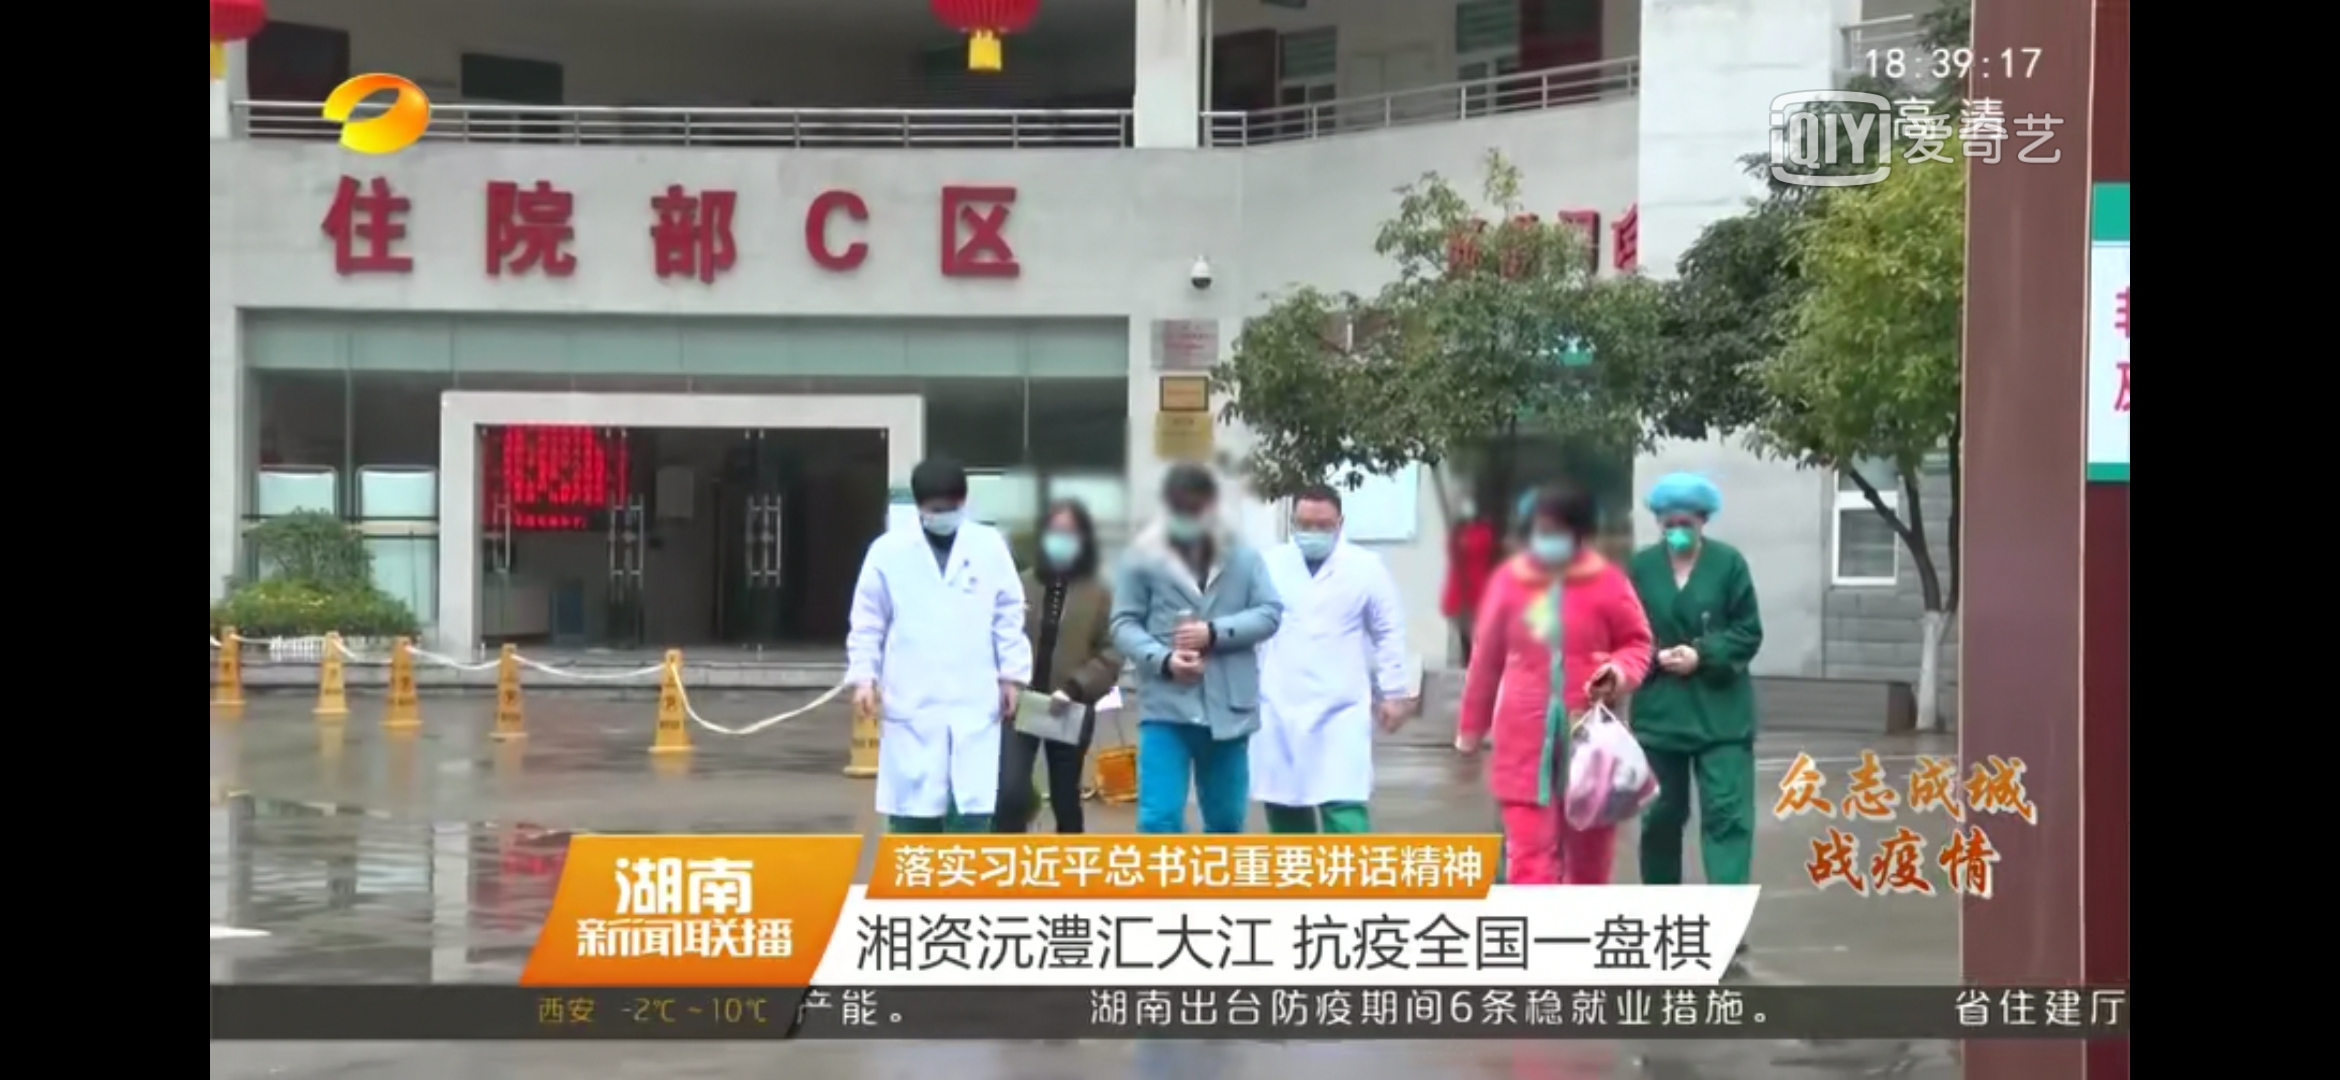correctlyWear: (1289, 509, 1345, 565), (1530, 509, 1580, 567), (1659, 507, 1706, 562), (915, 497, 963, 541), (1043, 516, 1085, 565)
